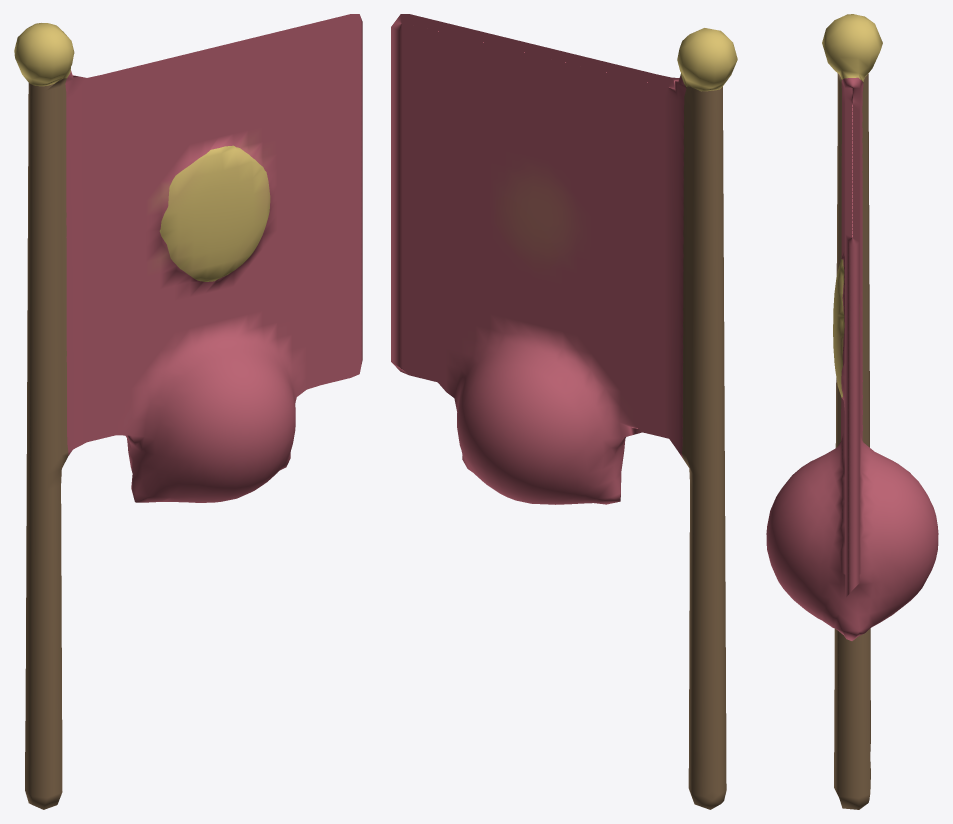
Rendered from banner.glb.
The picture shows the model from 3 angles, left to right: view 1: azimuth 30°, elevation 25°; view 2: azimuth 150°, elevation 25°; view 3: azimuth 270°, elevation 25°; orthographic projection.
Parts seen in each view (by area): view 1: banner; view 2: banner; view 3: banner.
Part boxes in pixels (bbox=[...]): banner: bbox=[14, 14, 362, 809]; banner: bbox=[391, 14, 737, 809]; banner: bbox=[766, 14, 938, 809].
Bounding box in the file's own units: 45.44 × 98.09 × 19.41.
